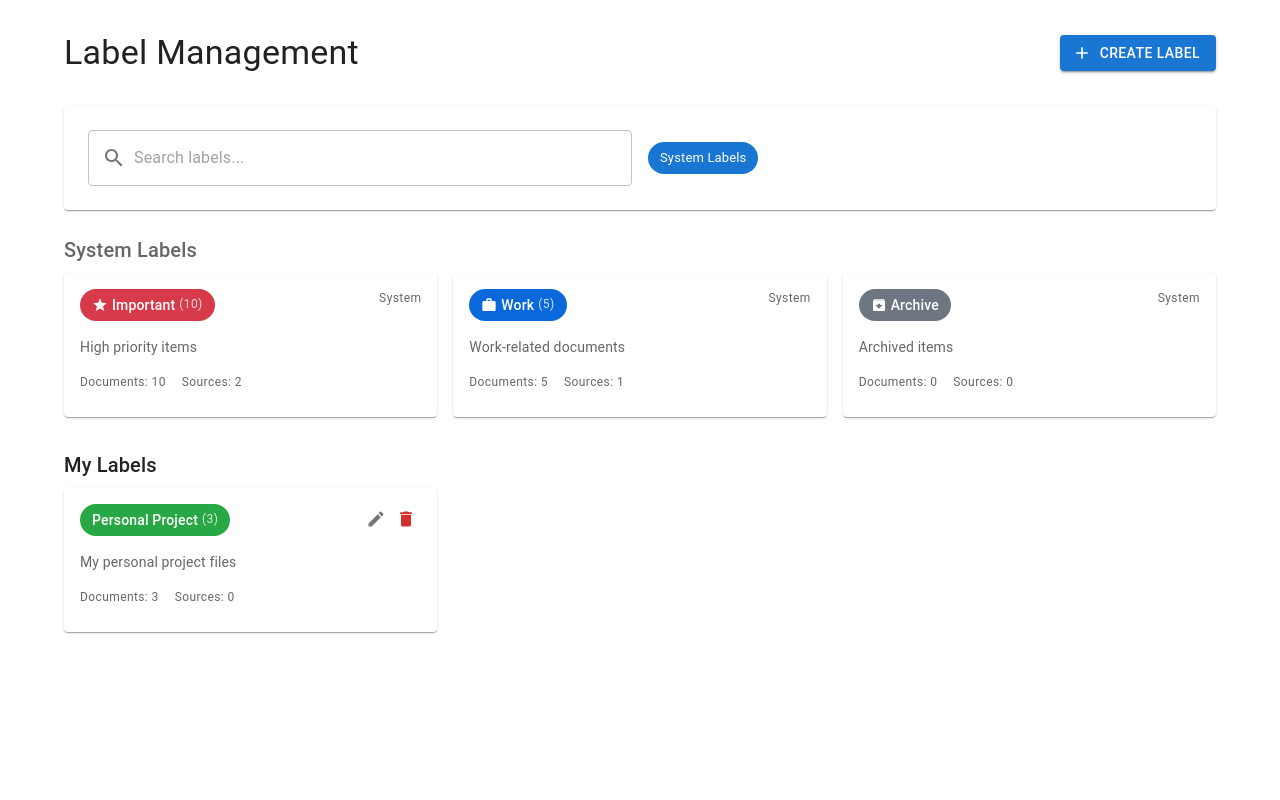
it: LabelsPage Component › Delete Label › should open delete confirmation when delete button is clicked
Check: the text "Personal Project" is shown, box [92,510,198,530]
Click the button named "delete".
click(406, 519)  # box [391,504,421,534]
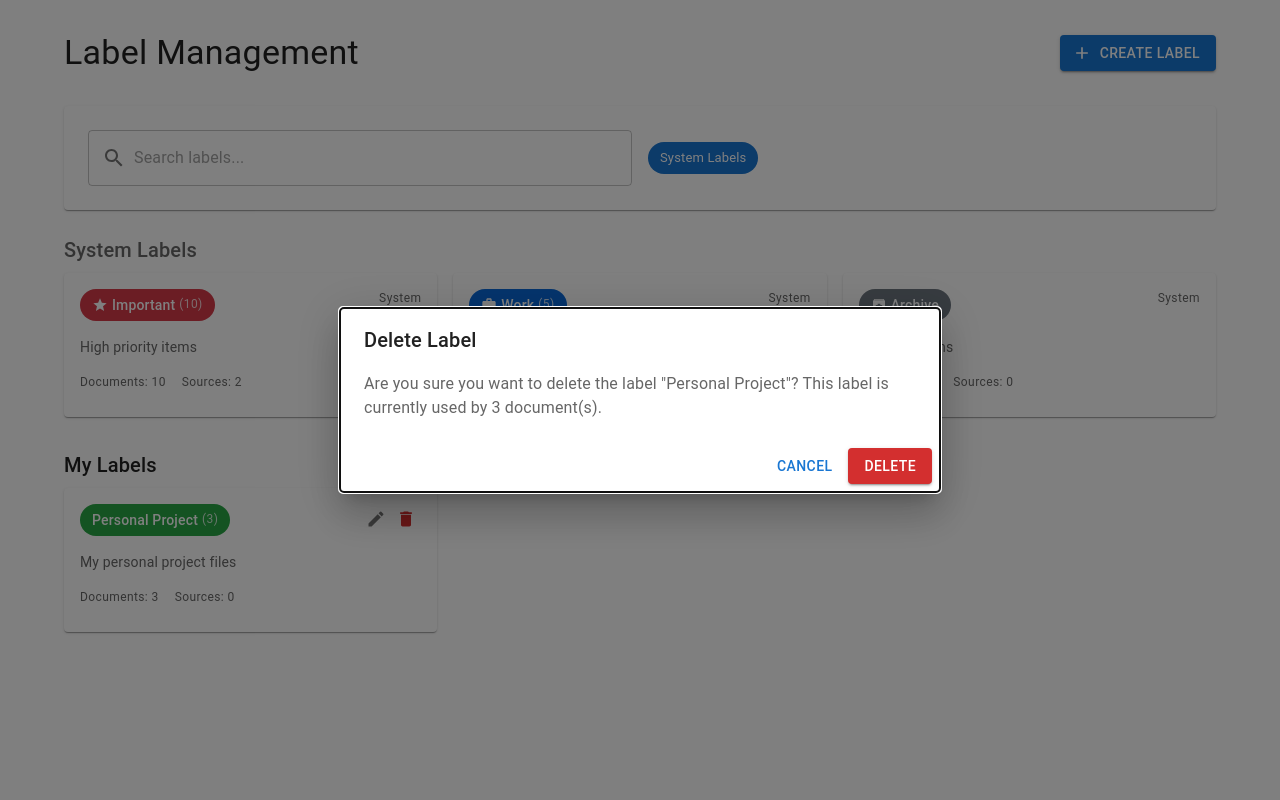
Check: the heading "Delete Label" is shown, box [364,328,477,352]
Check: the text "Are you sure you want to delete the label" is shown, box [364,374,666,393]
